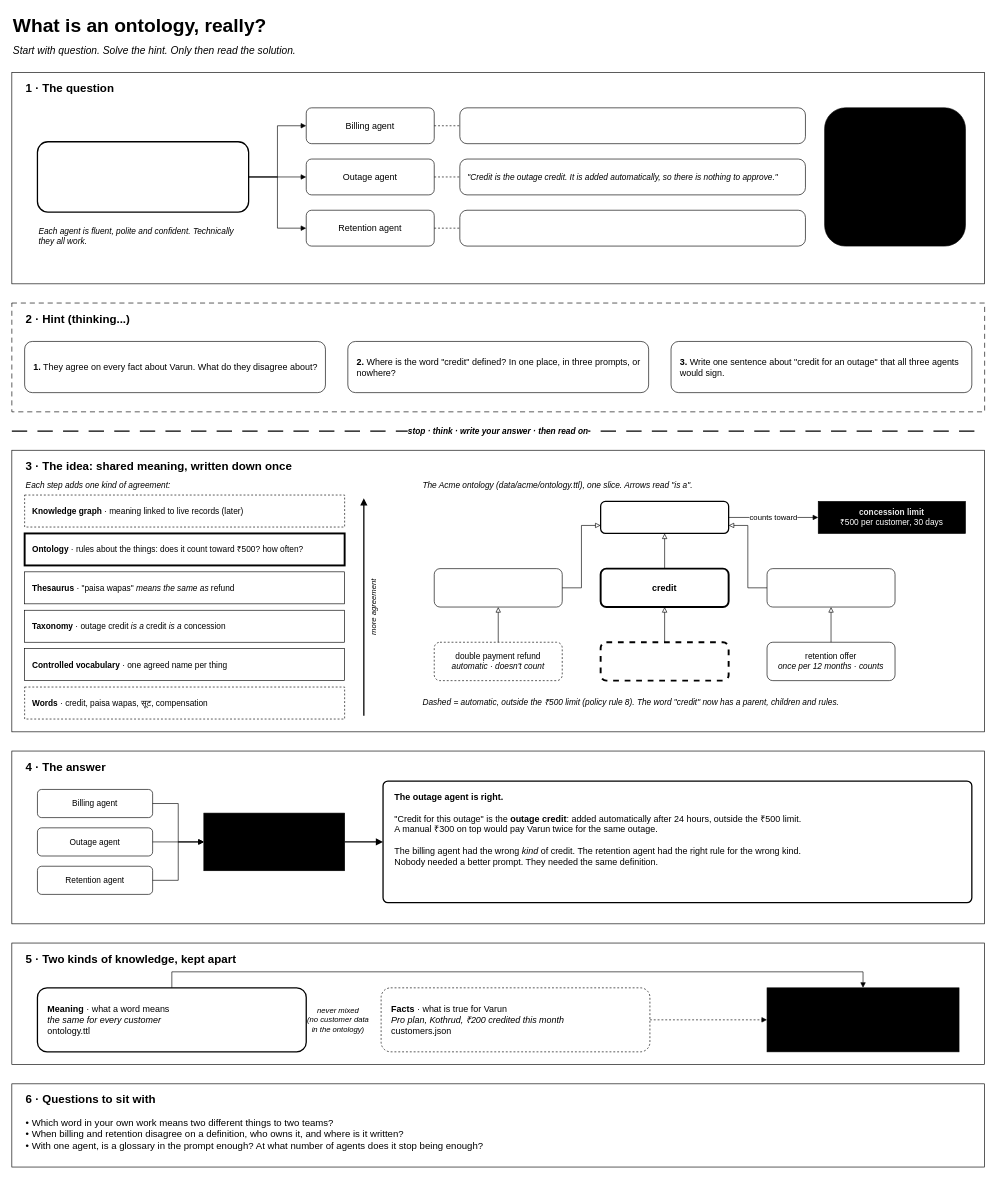
Some shapes in this 996 by 1178 pixel diagram are drawn without their labels. Each missing label, with the centre of its shape:
"Credit is a concession. With the ₹200 he got this month, it adds up to ₹500.": point (632, 228)
"Credit is money we give. ₹300 is under ₹500, so approve it.": point (632, 125)
? Same email, same word. Who is right?: point (894, 176)
concession: point (664, 517)
discount also: सूट, छूट, ರಿಯಾಯಿತಿ: point (830, 587)
Email from Varun, Kothrud "Net is down again. Give me a ₹300 credit for this.": point (142, 176)
one ontology define("credit"): point (274, 841)
outage credit automatic after 24 h · doesn't count: point (664, 661)
refund also: paisa wapas, पैसे परत: point (498, 587)
the agent decides meaning + facts = answer: point (862, 1019)
